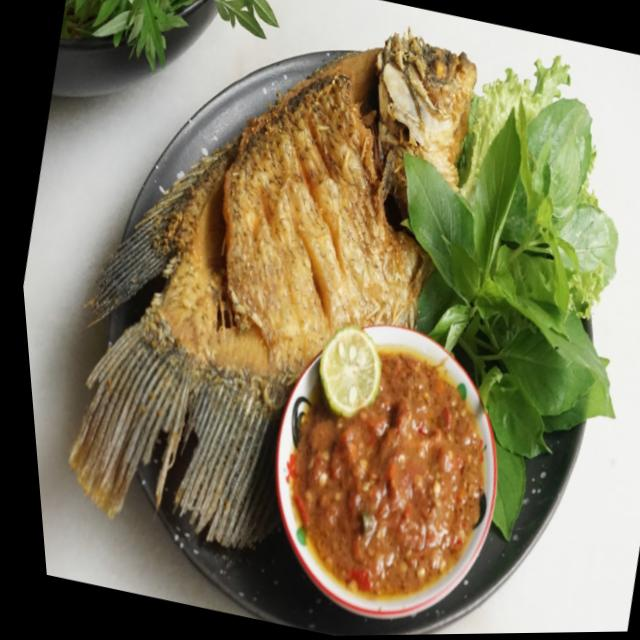ikan goreng: (9, 0, 514, 593)
